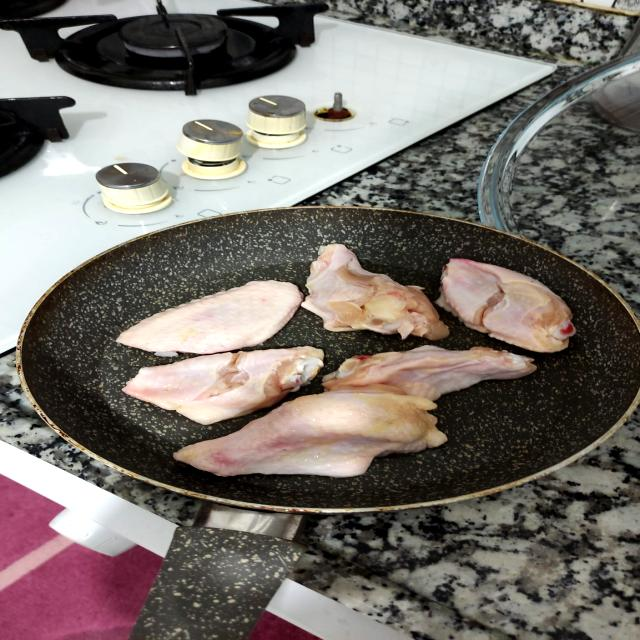chicken: (166, 384, 454, 489), (288, 234, 472, 351), (429, 245, 603, 359), (113, 334, 340, 421), (111, 274, 320, 362), (312, 338, 550, 407)
